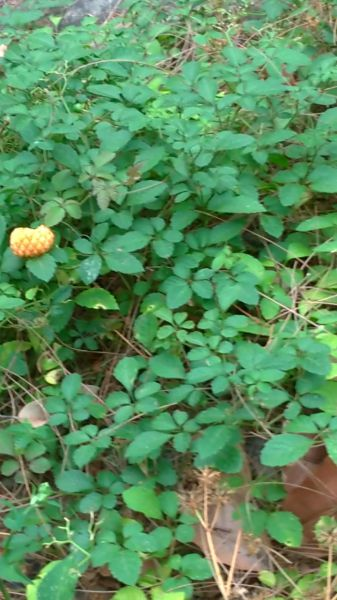eggs: (7, 222, 59, 260)
